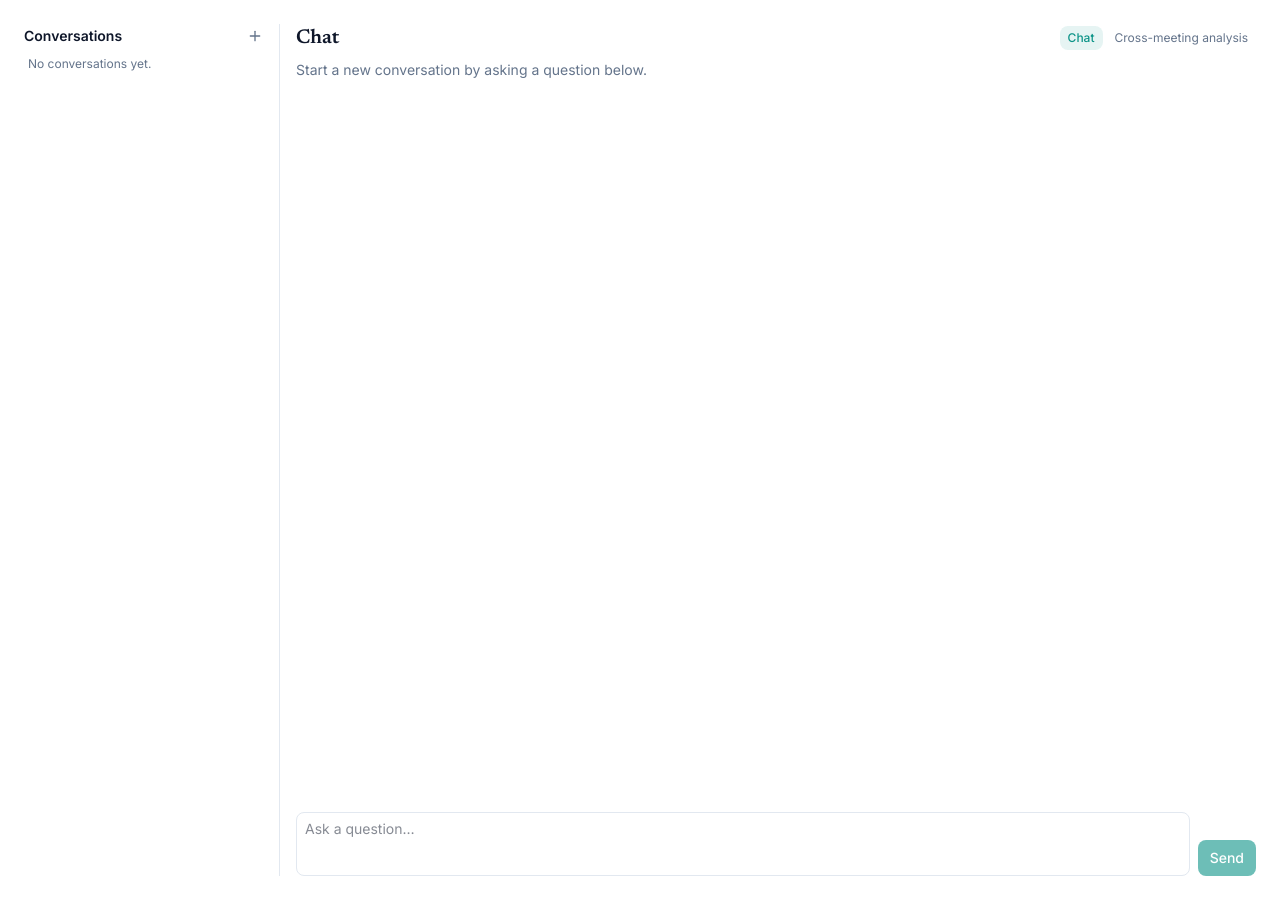
Scenario: ChatScreen › starting a new conversation sends create-and-send and selects it in the list
Expected: the text "Start a new conversation by asking a question below." is shown, [296, 61, 647, 78]
In the text box named "message": point(743, 844) [296, 812, 1190, 876], type "Any blockers this week?"
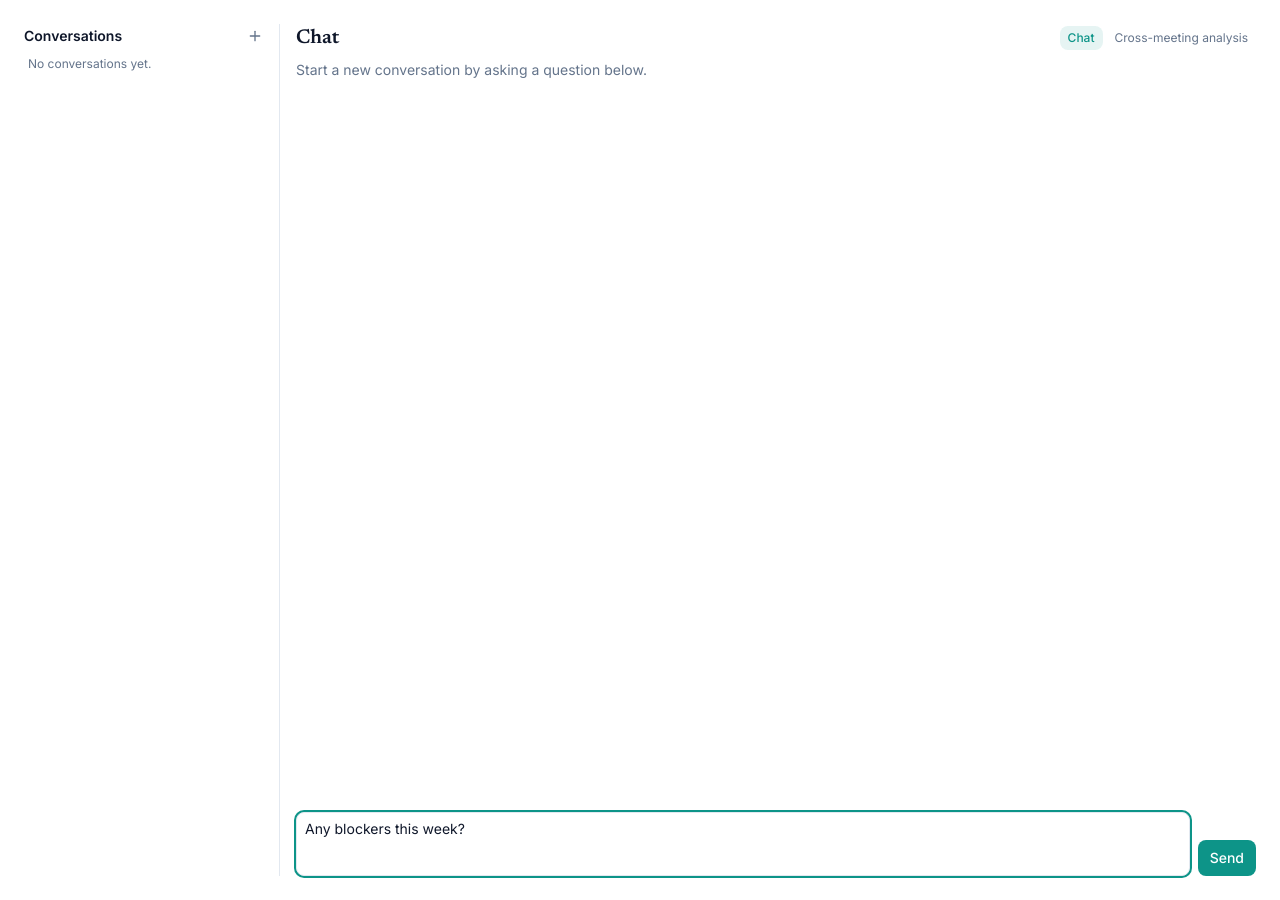
Click the button "Send": point(1227, 858) [1198, 840, 1256, 876]
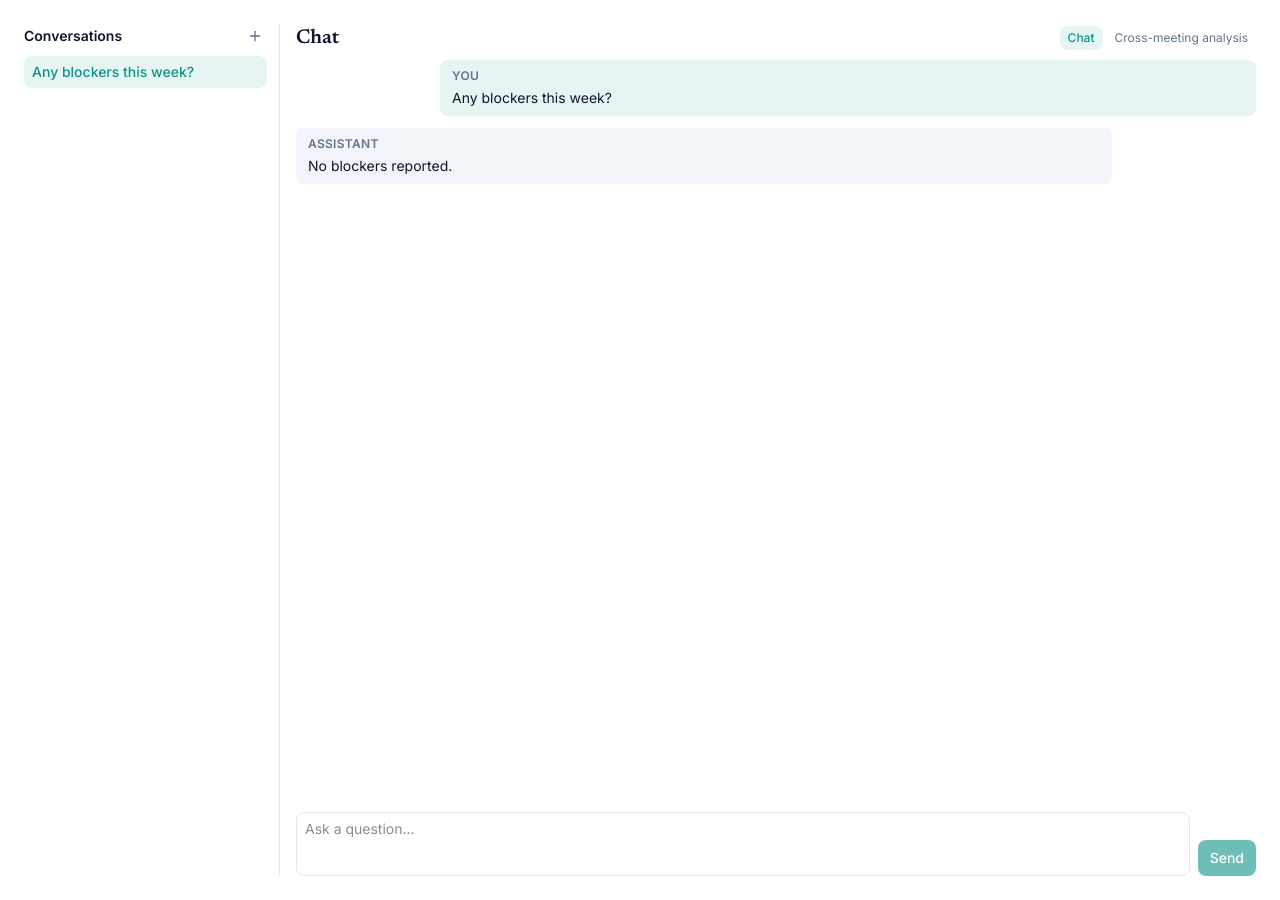
Expected: the text "No blockers reported." is shown, [308, 157, 452, 174]
Expected: the button "Any blockers this week?" is shown, [24, 56, 267, 88]
